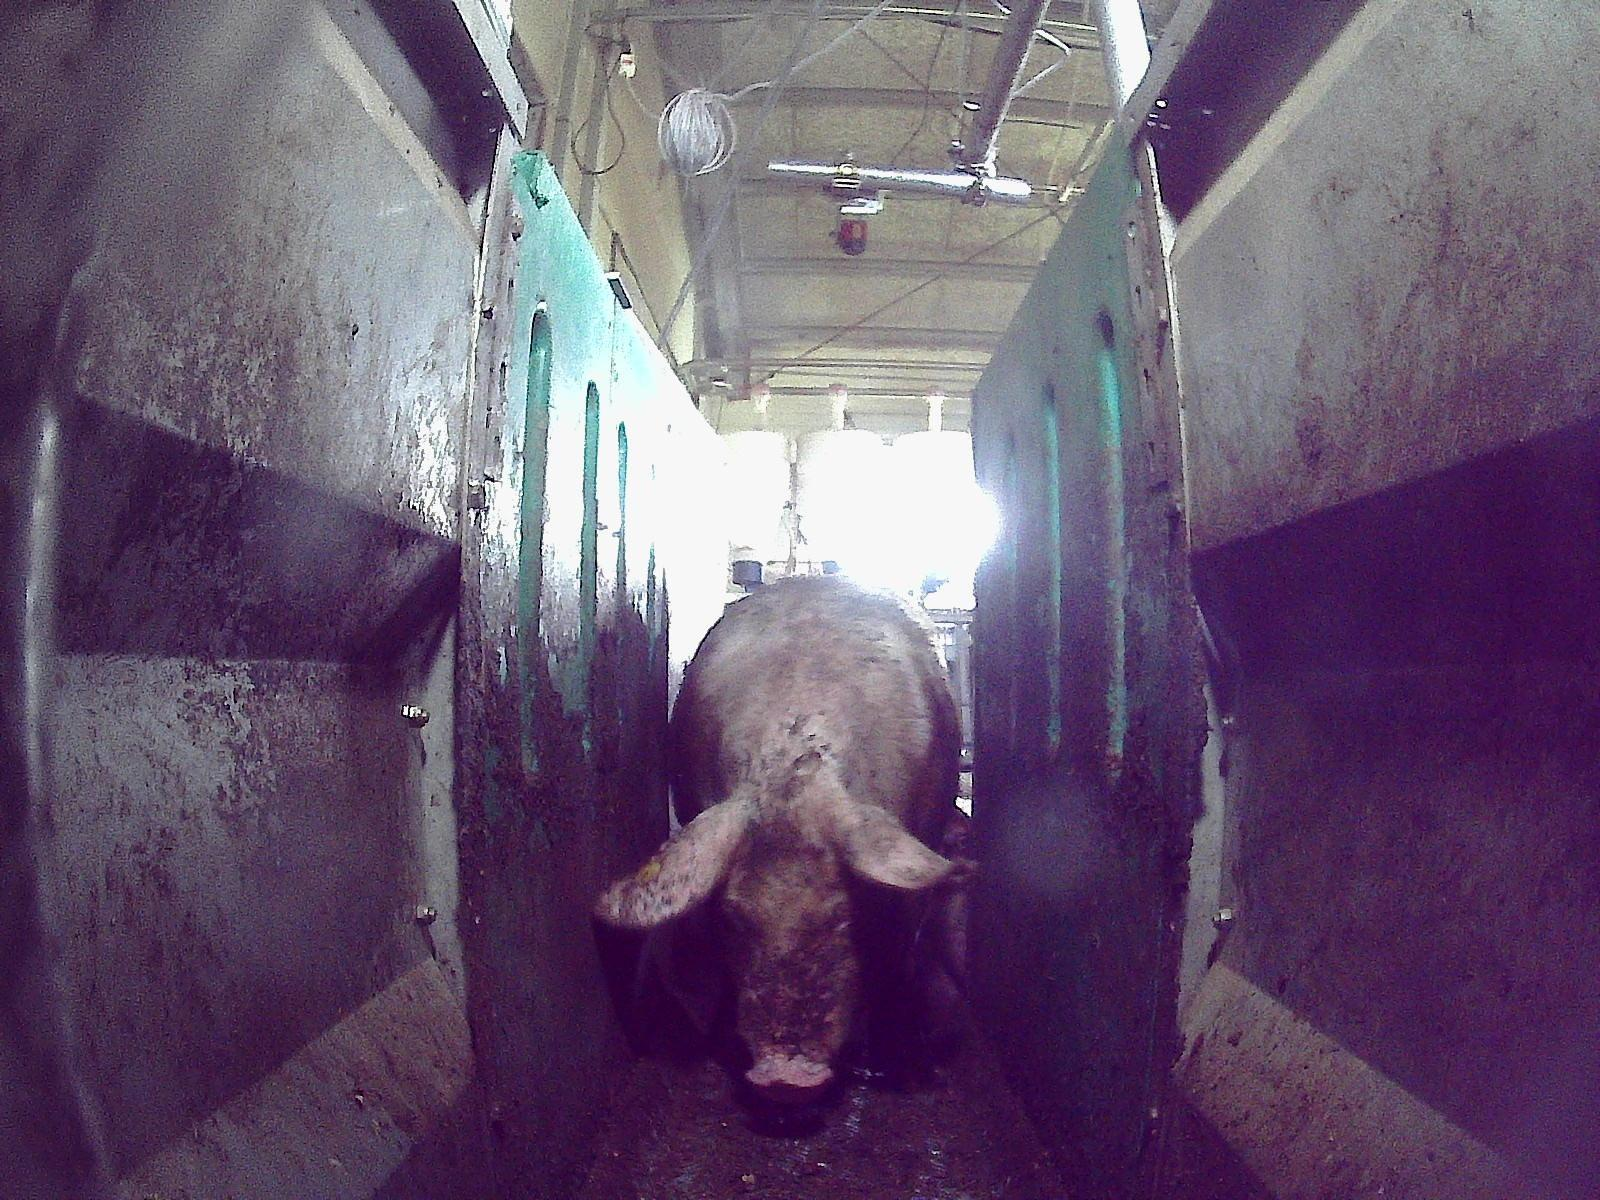Face: (716, 796, 874, 1101)
